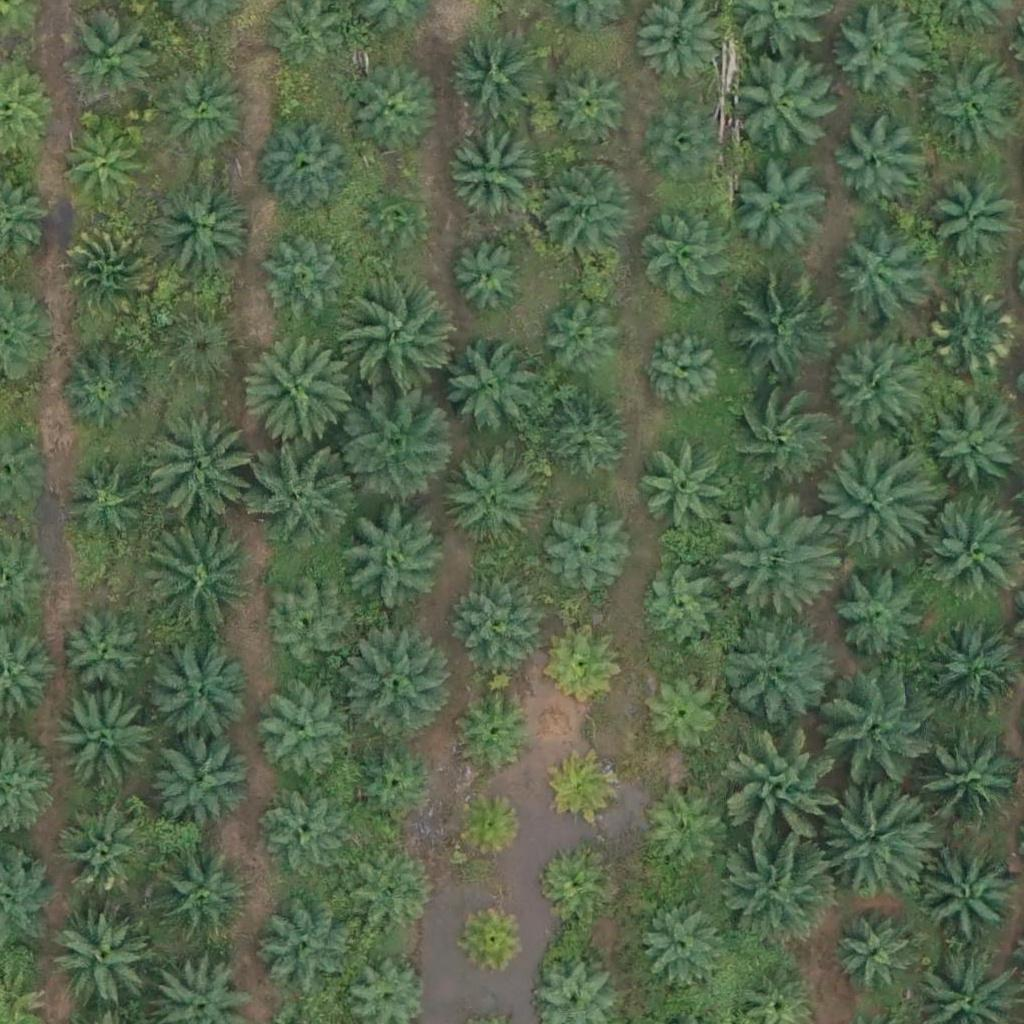Kelapa_Sawit: (908, 729, 1021, 843), (142, 414, 255, 528), (725, 52, 838, 166), (825, 675, 938, 788), (724, 833, 837, 946), (337, 391, 450, 504), (338, 501, 451, 614), (339, 624, 452, 737), (248, 437, 361, 550), (244, 333, 357, 446), (138, 528, 251, 641), (824, 452, 936, 566), (730, 737, 842, 851), (725, 276, 837, 390), (344, 281, 456, 395), (820, 780, 932, 893), (717, 611, 829, 724), (717, 496, 829, 609), (721, 383, 833, 496), (920, 845, 1020, 946), (825, 557, 925, 658), (737, 157, 837, 258), (636, 441, 736, 542), (531, 157, 631, 258), (440, 445, 540, 546), (258, 117, 358, 218), (150, 174, 250, 275), (147, 644, 247, 745), (152, 727, 252, 828), (52, 900, 152, 1001), (151, 844, 251, 945), (258, 896, 358, 997), (54, 692, 154, 793), (59, 3, 159, 104), (150, 59, 250, 160), (447, 25, 547, 126), (921, 55, 1021, 156), (921, 623, 1021, 723), (820, 339, 920, 439), (445, 124, 545, 224), (439, 340, 539, 440), (63, 221, 163, 321), (638, 327, 726, 416), (349, 739, 437, 827), (349, 857, 437, 945), (830, 117, 918, 205), (831, 233, 919, 321), (832, 911, 920, 999), (646, 217, 734, 305), (540, 290, 628, 378), (152, 307, 240, 395), (57, 453, 145, 541), (635, 667, 723, 755), (640, 790, 728, 878), (259, 695, 347, 783), (260, 787, 348, 875), (261, 238, 349, 326), (57, 123, 145, 211), (62, 346, 150, 434), (62, 603, 150, 691), (928, 292, 1015, 380), (927, 177, 1014, 265), (543, 395, 630, 483), (638, 565, 725, 653), (639, 899, 726, 987), (453, 575, 540, 663), (540, 506, 627, 594), (265, 584, 352, 672), (57, 809, 144, 897), (353, 70, 440, 158), (546, 62, 633, 150), (450, 240, 525, 316), (534, 845, 609, 921), (650, 107, 725, 183), (456, 898, 531, 974), (549, 749, 624, 825), (459, 691, 534, 766), (451, 788, 526, 863), (549, 627, 624, 702), (361, 184, 423, 247)
